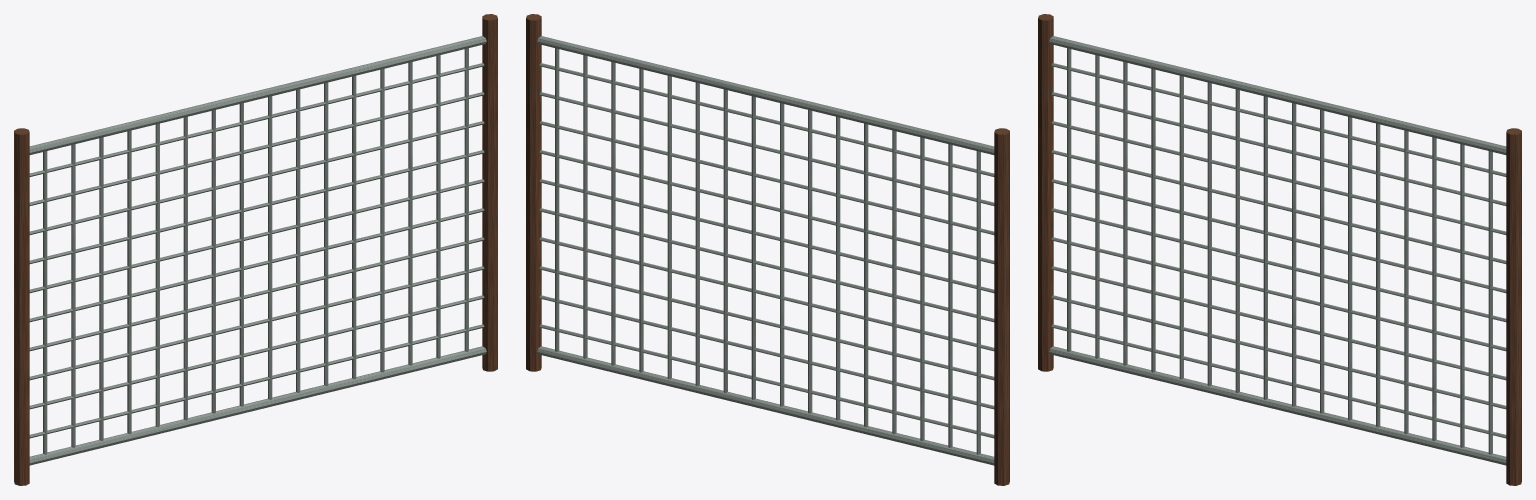
File: Fence_3m.obj
3 views of the same model, side by side, from view 1: azimuth 30°, elevation 25°; view 2: azimuth 150°, elevation 25°; view 3: azimuth 330°, elevation 25° (orthographic).
Parts seen in each view (by area): view 1: Fence_3m; view 2: Fence_3m; view 3: Fence_3m.
Part boxes in pixels (x1,y1,x2,y2): Fence_3m: (14, 14, 497, 485); Fence_3m: (526, 14, 1009, 485); Fence_3m: (1038, 14, 1521, 485).
Size of the model in its own units: 3.09 by 2.15 by 0.09.
Materials: 2 (2 with a texture image).
